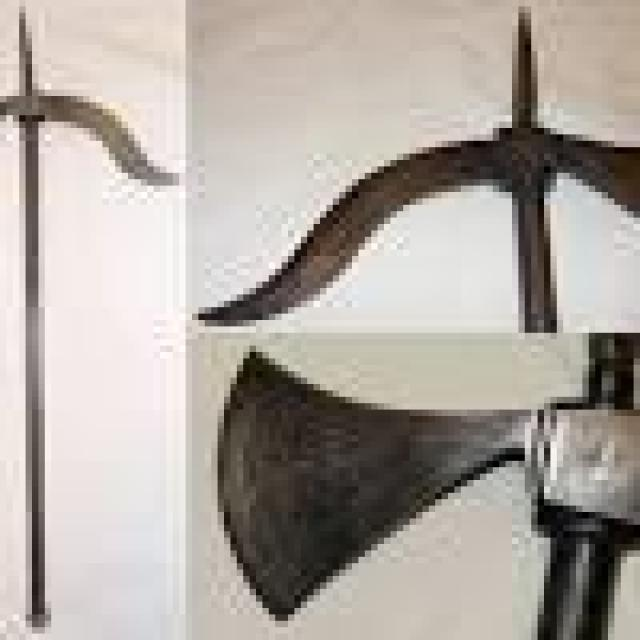Gun: (192, 0, 640, 333), (198, 333, 640, 640), (0, 0, 189, 640)
